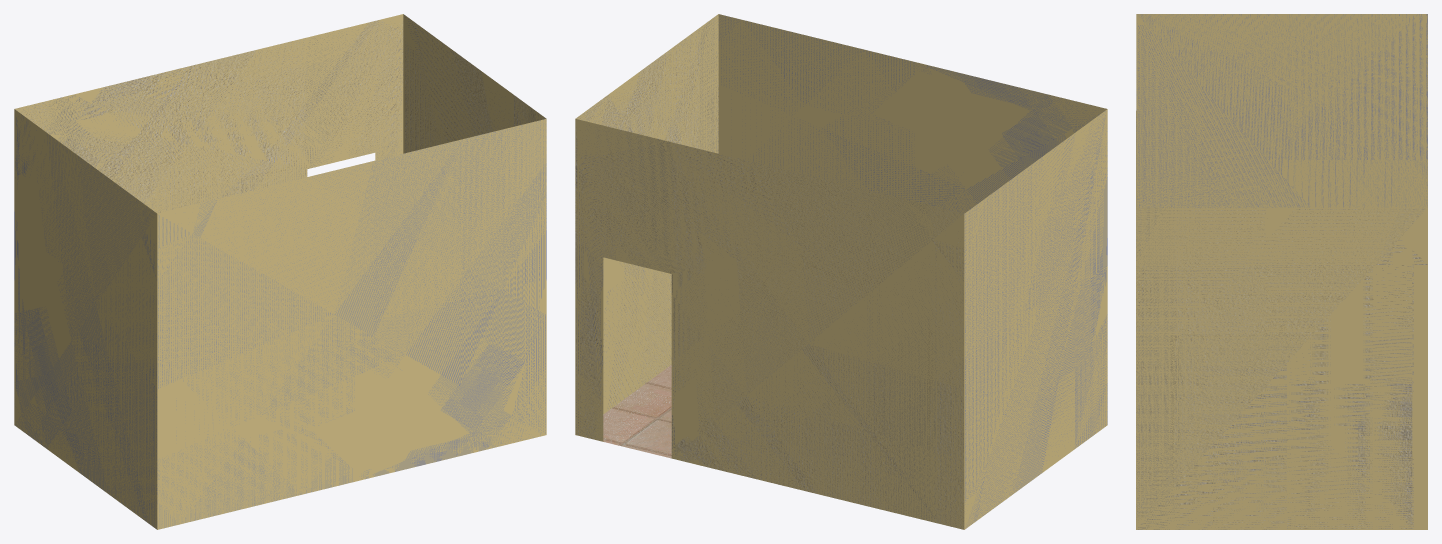
File: DES018.obj
The picture shows the model from 3 angles, left to right: view 1: azimuth 30°, elevation 25°; view 2: azimuth 150°, elevation 25°; view 3: azimuth 270°, elevation 25°; orthographic projection.
Parts seen in each view (by area): view 1: Mesh1 LAB018 Model; view 2: Mesh1 LAB018 Model; view 3: Mesh1 LAB018 Model.
Boxes of the visible parts, x1,y1,x2,y2 form: Mesh1 LAB018 Model: [14, 14, 546, 529]; Mesh1 LAB018 Model: [575, 14, 1107, 529]; Mesh1 LAB018 Model: [1136, 14, 1427, 529].
Size of the model in its own units: 4.64 by 3.6 by 2.95.
Materials: 4 (2 with a texture image).
